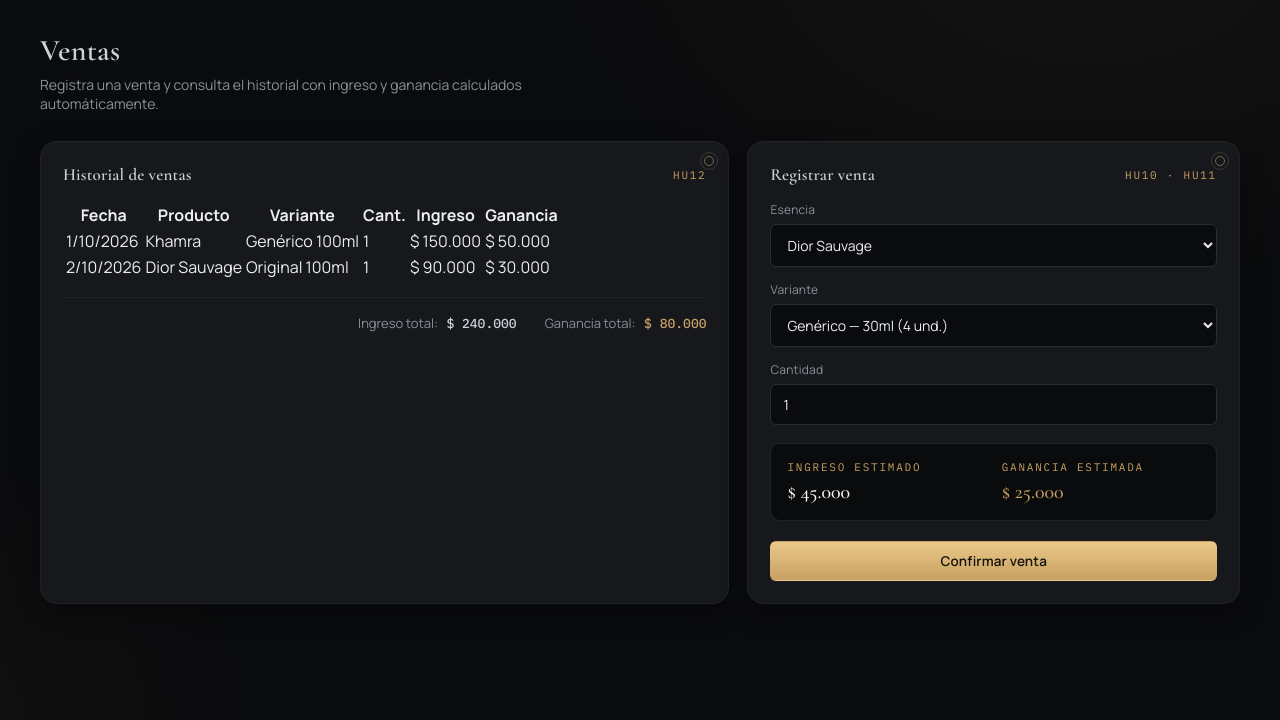
Test: Ventas: formulario › rechaza la venta si la cantidad supera el stock
Check: the heading "Historial de ventas" is shown, box [63,164,192,185]
Step 1. Replace the text in the number field with "10" → (994, 404), box [770,384,1217,425]
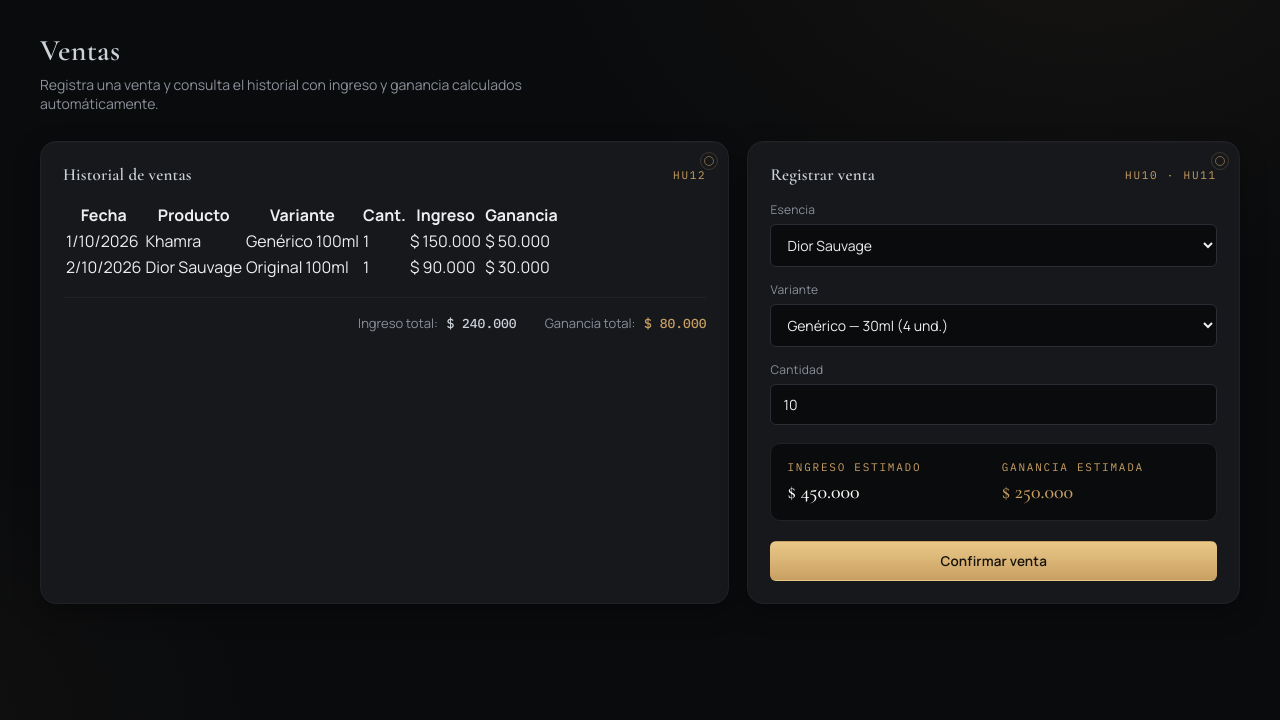
Step 2. Submit the text "Confirmar venta", box [770,201,1217,581]
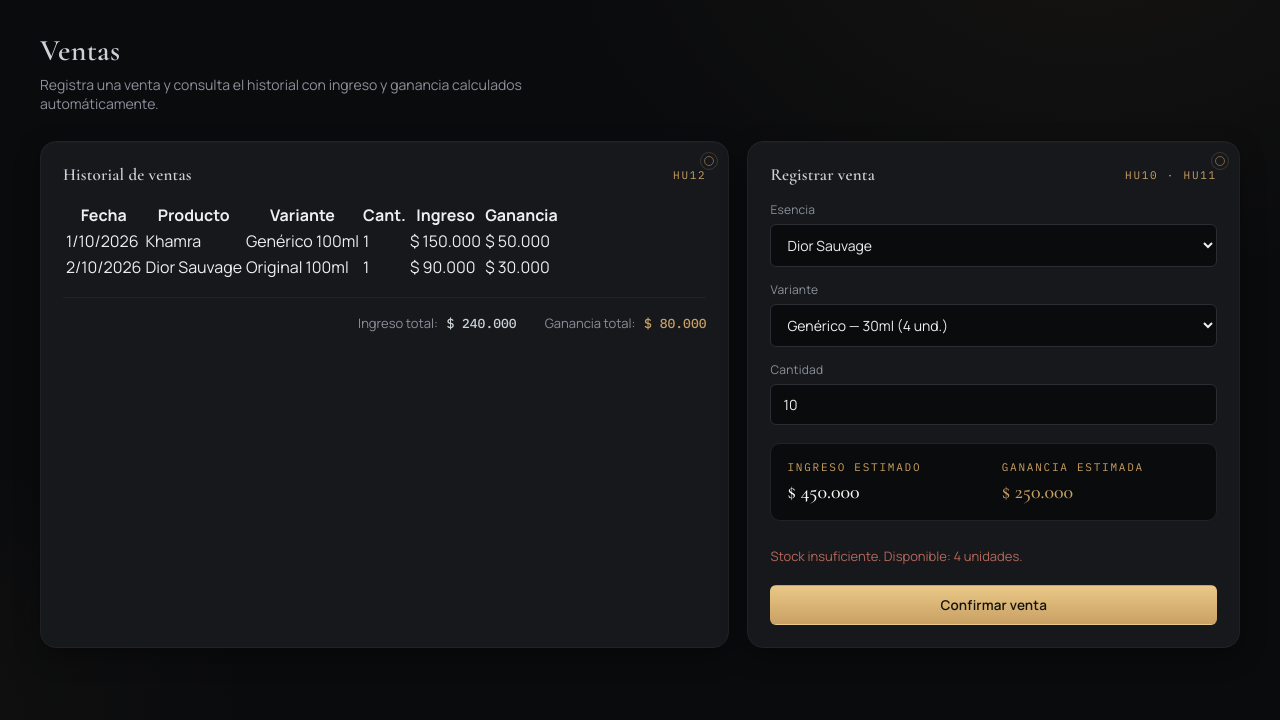
Check: the text "Stock insuficiente. Disponible: 4 unidades." is shown, box [770,547,1022,565]
